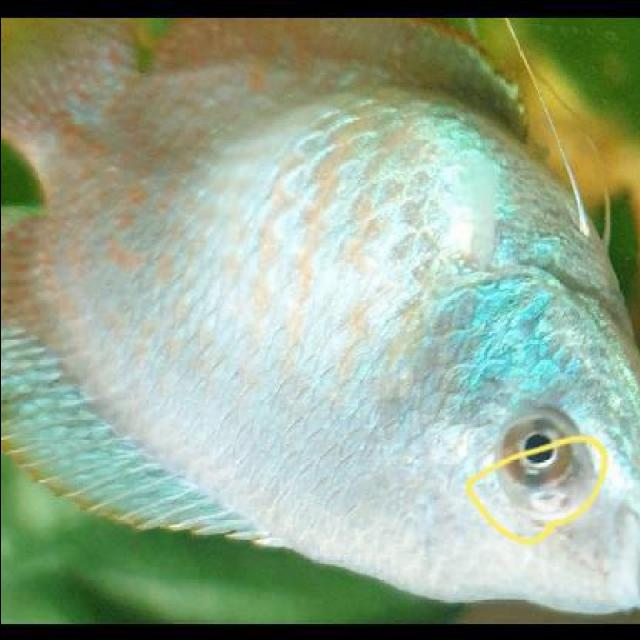Gourami: (1, 15, 638, 611)
